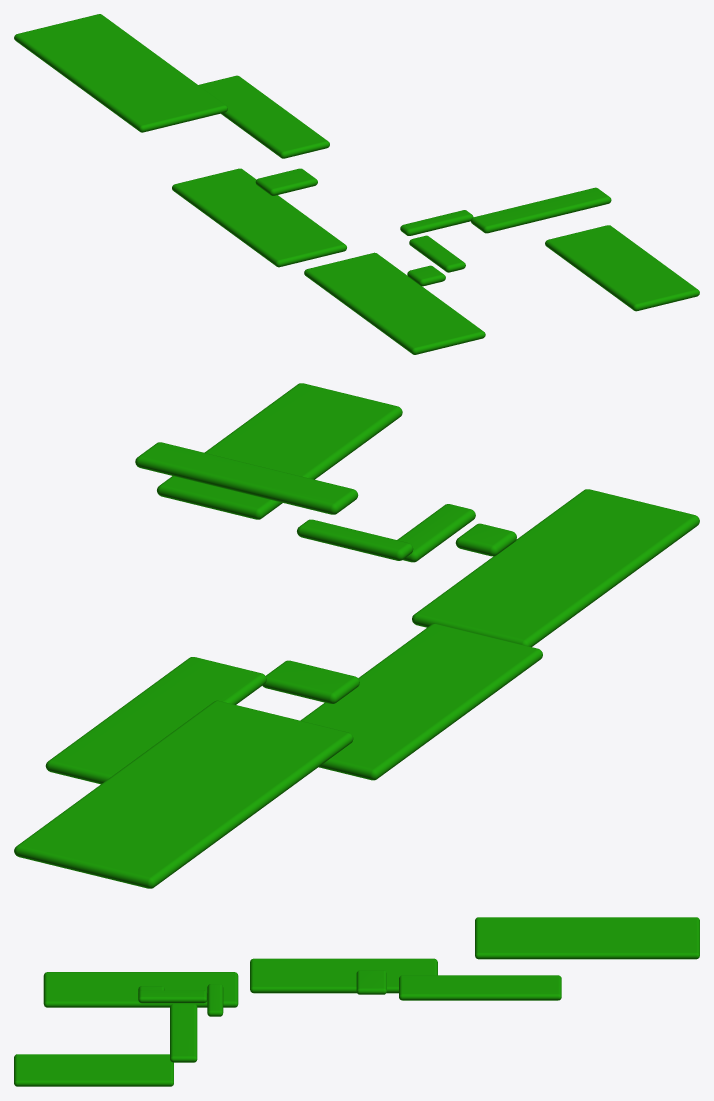
File: Platforms.fbx
3 views of the same model, one above another, from view 1: azimuth 30°, elevation 25°; view 2: azimuth 150°, elevation 25°; view 3: azimuth 270°, elevation 25° (orthographic). The views are drawn at different scales.
Parts seen in each view (by area): view 1: P4, P9, P8, P5, P10, P2, P1, P7, P6, P3; view 2: P4, P9, P8, P5, P10, P2, P1, P6, P7, P3; view 3: P4, P9, P8, P5, P10, P2, P7, P1, P6.
Part boxes in pixels (x1=…): P4: x1=14, y1=14, x2=227, y2=132; P9: x1=304, y1=252, x2=485, y2=354; P8: x1=172, y1=168, x2=346, y2=267; P5: x1=545, y1=225, x2=699, y2=311; P10: x1=198, y1=75, x2=329, y2=158; P2: x1=471, y1=187, x2=611, y2=233; P1: x1=255, y1=168, x2=317, y2=195; P7: x1=409, y1=235, x2=465, y2=272; P6: x1=400, y1=210, x2=473, y2=235; P3: x1=407, y1=265, x2=445, y2=286; P4: x1=14, y1=700, x2=353, y2=888; P9: x1=412, y1=489, x2=699, y2=646; P8: x1=300, y1=623, x2=542, y2=780; P5: x1=157, y1=383, x2=402, y2=519; P10: x1=45, y1=657, x2=266, y2=784; P2: x1=135, y1=442, x2=358, y2=514; P1: x1=262, y1=660, x2=359, y2=703; P6: x1=297, y1=519, x2=413, y2=560; P7: x1=397, y1=504, x2=475, y2=562; P3: x1=455, y1=523, x2=516, y2=556; P4: x1=475, y1=917, x2=699, y2=959; P9: x1=43, y1=972, x2=238, y2=1007; P8: x1=250, y1=958, x2=437, y2=993; P5: x1=14, y1=1054, x2=173, y2=1086; P10: x1=399, y1=975, x2=561, y2=1000; P2: x1=170, y1=1004, x2=197, y2=1062; P7: x1=138, y1=990, x2=207, y2=1003; P1: x1=356, y1=970, x2=386, y2=994; P6: x1=207, y1=984, x2=223, y2=1016.
Bounding box in the file's own units: 9000 × 1623 × 20395.
1 material, 1 textured.
